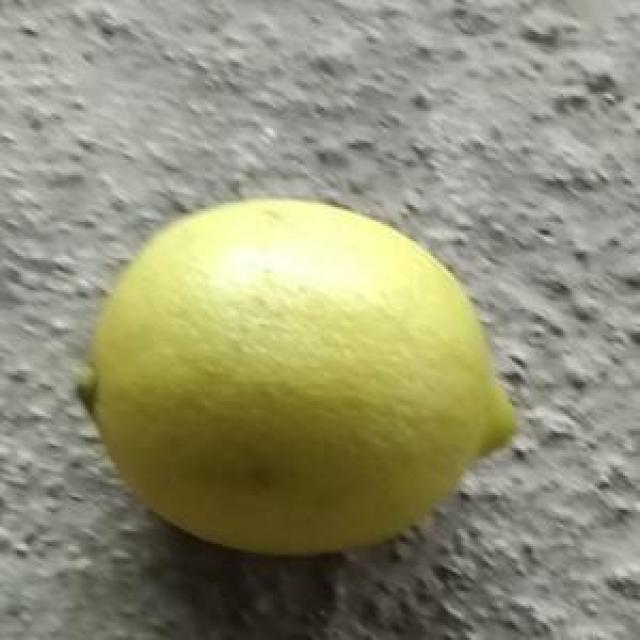lemon: (75, 192, 525, 564)
